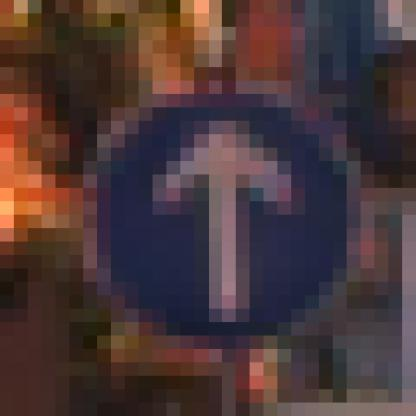AheadOnly: (84, 68, 348, 337)
